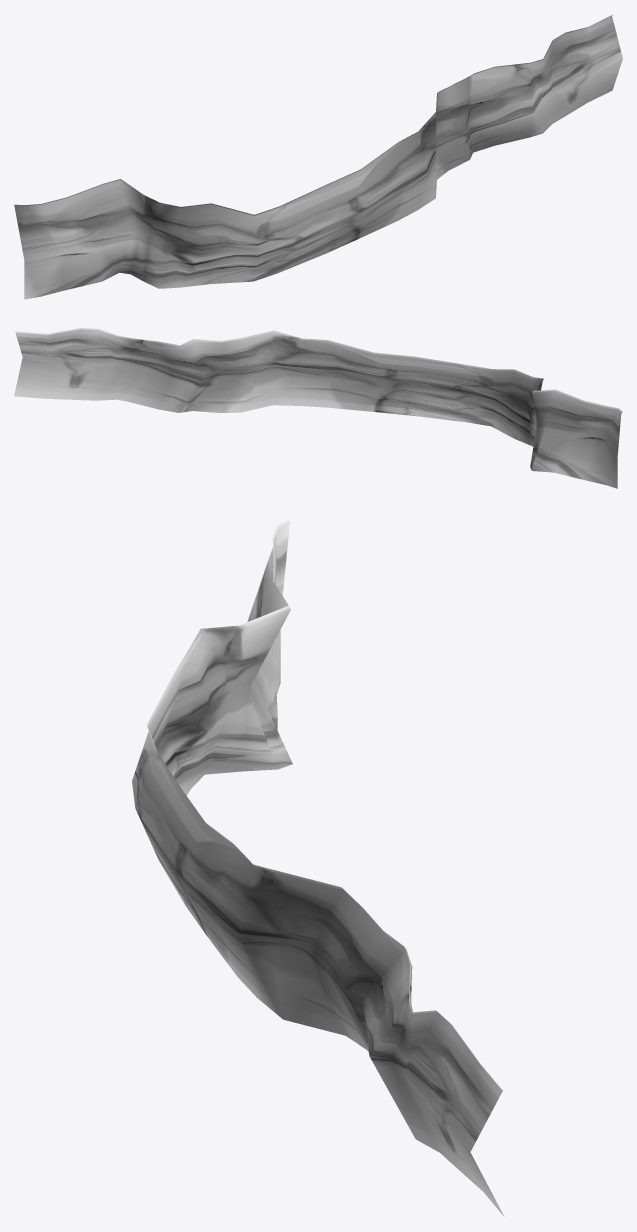
File: FALAISE_BORD_LOW_01.fbx
The picture shows the model from 3 angles, top to bottom: view 1: azimuth 30°, elevation 25°; view 2: azimuth 150°, elevation 25°; view 3: azimuth 270°, elevation 25°; orthographic projection. The views are drawn at different scales.
Parts seen in each view (by area): view 1: FALAISE_BORD_LOW_01; view 2: FALAISE_BORD_LOW_01; view 3: FALAISE_BORD_LOW_01.
Part boxes in pixels (box(x1,y1,x2,y2)): FALAISE_BORD_LOW_01: box(14, 15, 622, 299); FALAISE_BORD_LOW_01: box(14, 328, 622, 488); FALAISE_BORD_LOW_01: box(132, 517, 504, 1217).
Size of the model in its own units: 10358 by 1472 by 3018.
1 material, 1 textured.
